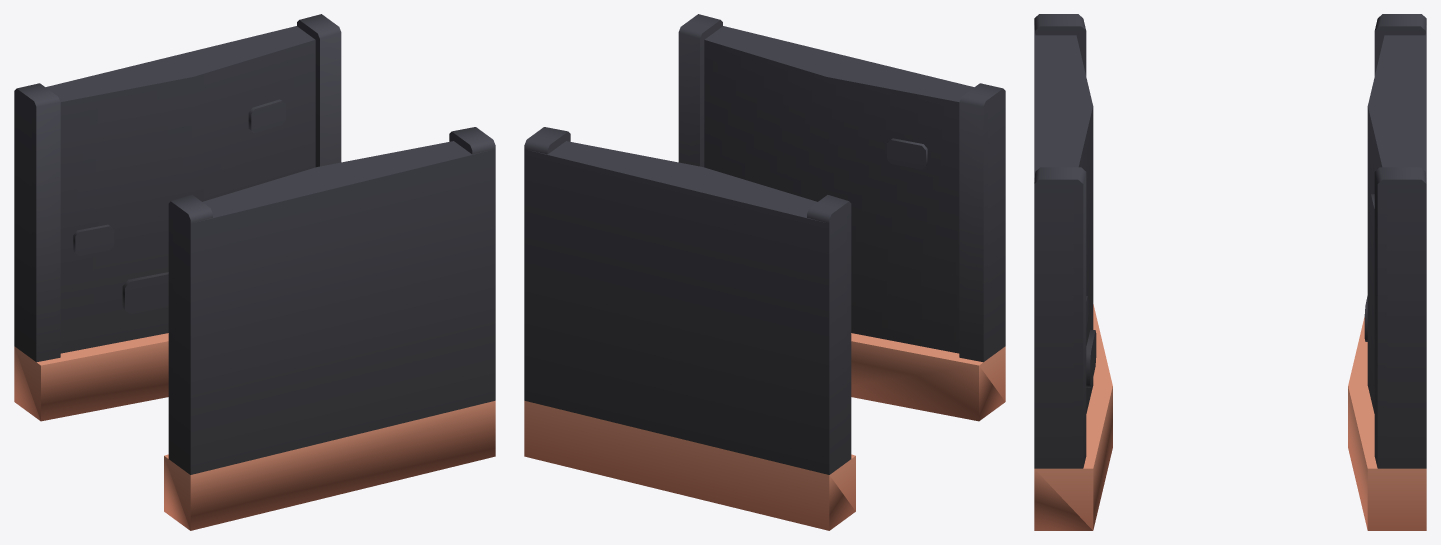
Rendered from CorridorNew.obj.
The picture shows the model from 3 angles, left to right: view 1: azimuth 30°, elevation 25°; view 2: azimuth 150°, elevation 25°; view 3: azimuth 270°, elevation 25°; orthographic projection. The views are drawn at different scales.
Parts seen in each view (by area): view 1: corridor; view 2: corridor; view 3: corridor.
Part boxes in pixels (left/top/right/bottom): corridor: left=14, top=14, right=495, bottom=530; corridor: left=524, top=14, right=1005, bottom=530; corridor: left=1034, top=14, right=1426, bottom=530.
Size of the model in its own units: 4 by 3.95 by 4.
